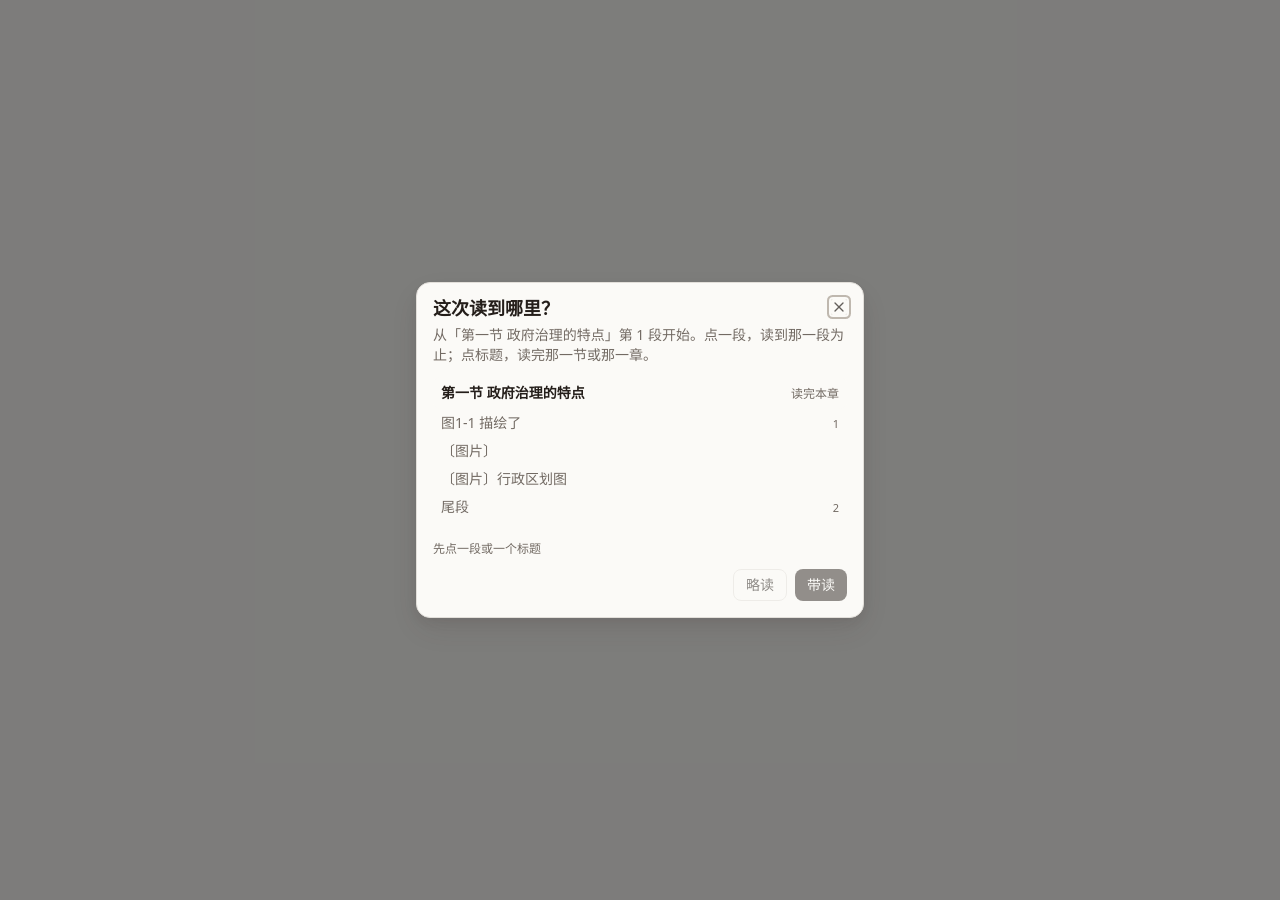
Scenario: GuideRangePicker › shows images by their alt text, hides blank blocks and a heading that repeats the chapter title
Expected: the text "图1-1 描绘了" is shown, [441,413,521,432]
Expected: the text "第一节 政府治理的特点" is shown once, [441,383,585,403]
Click the button "尾段 2": (455,506) [433,493,847,521]
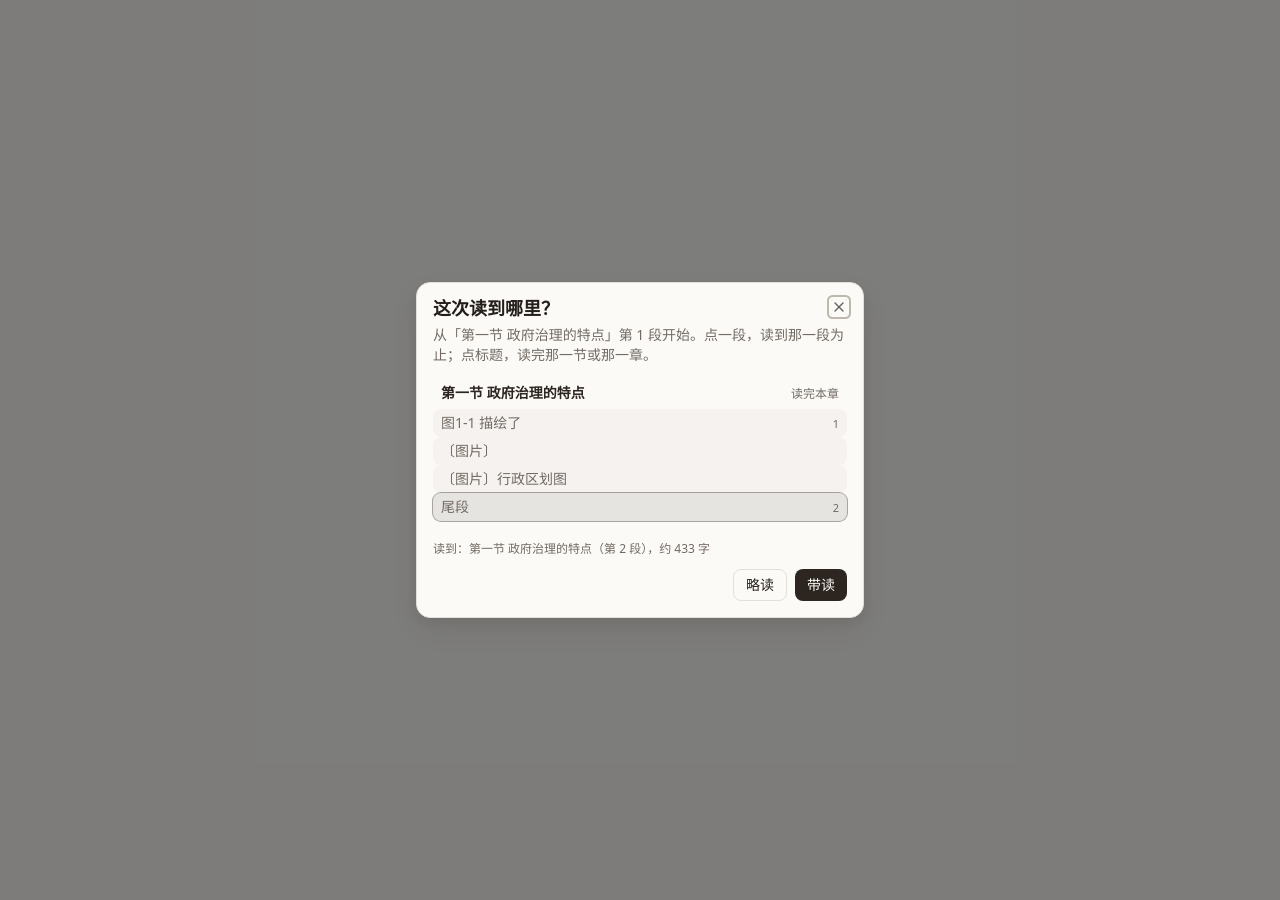
Result: the text "读到：第一节 政府治理的特点（第 2 段），约 433 字" is shown at [433,540,710,557]
